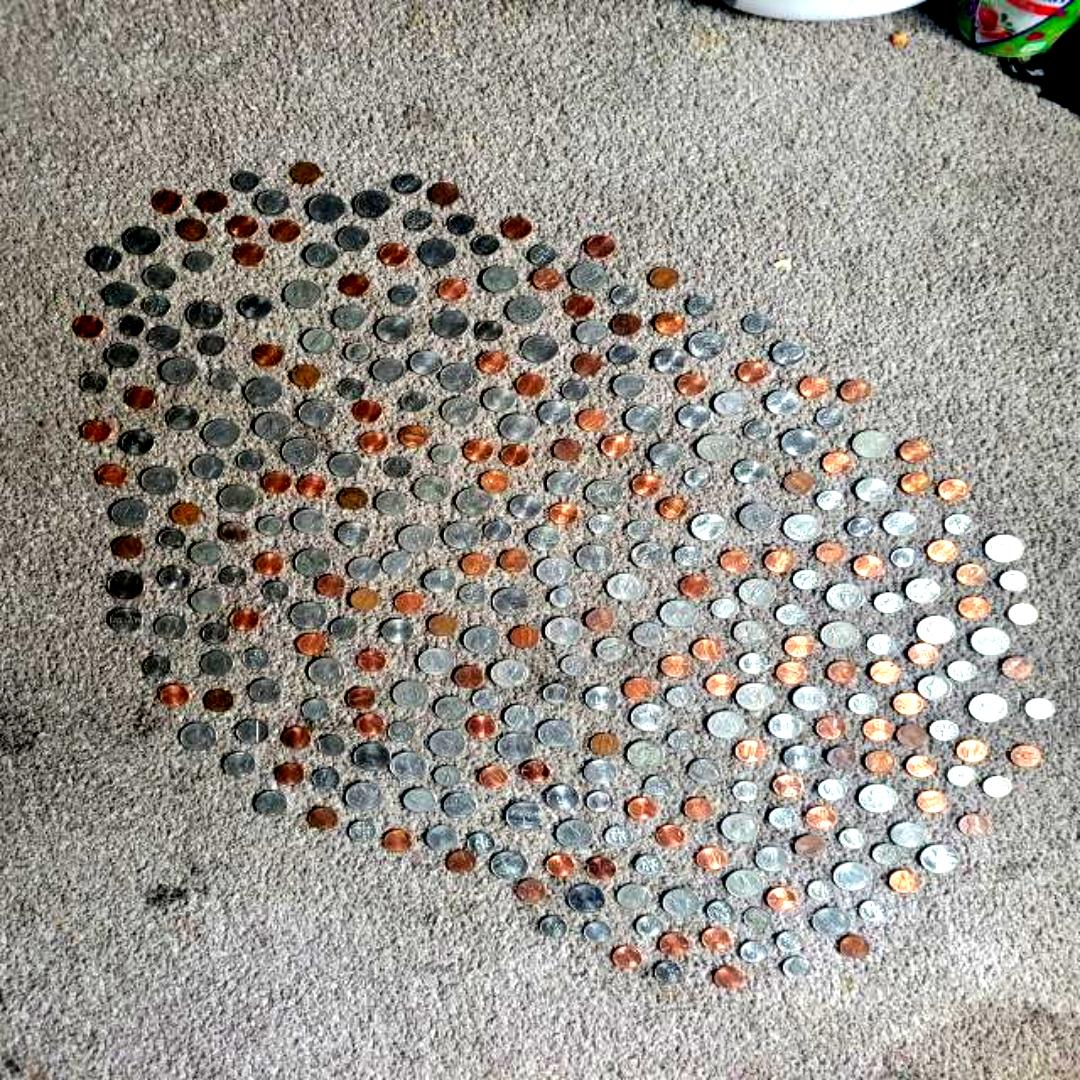Dime: (847, 694, 877, 716), (345, 342, 373, 364), (476, 320, 504, 342), (686, 296, 714, 318), (817, 490, 845, 512), (847, 516, 875, 538), (998, 570, 1026, 592), (588, 514, 616, 536), (237, 450, 265, 472), (159, 528, 187, 550), (867, 634, 895, 656), (782, 956, 810, 978), (467, 832, 495, 854), (818, 780, 848, 800), (929, 720, 959, 740), (948, 661, 978, 681), (872, 844, 902, 864), (858, 900, 888, 920), (210, 370, 238, 391), (448, 215, 476, 236), (745, 419, 773, 440), (330, 618, 358, 639), (434, 764, 462, 785), (561, 654, 589, 675), (947, 764, 975, 785), (1026, 698, 1054, 719), (348, 821, 376, 842), (562, 380, 588, 402), (610, 344, 636, 366), (384, 456, 410, 478), (199, 335, 226, 356), (80, 373, 108, 393), (118, 316, 146, 336), (232, 171, 260, 191), (394, 174, 422, 194), (404, 210, 432, 230), (473, 236, 501, 256), (390, 285, 418, 305), (338, 379, 366, 399), (400, 392, 428, 412), (529, 246, 557, 266), (610, 286, 638, 306), (815, 408, 843, 428), (684, 468, 712, 488), (890, 548, 918, 568), (944, 514, 972, 534), (793, 570, 821, 590), (674, 546, 702, 566), (626, 521, 654, 541), (550, 587, 578, 607), (458, 584, 486, 604), (484, 521, 512, 541), (220, 566, 248, 586), (258, 516, 286, 536), (144, 657, 172, 677), (202, 624, 230, 644), (302, 700, 330, 720), (318, 736, 346, 756), (388, 722, 416, 742), (473, 689, 501, 709), (543, 684, 571, 704), (586, 792, 614, 812), (645, 776, 673, 796), (669, 730, 697, 750), (667, 687, 695, 707), (739, 653, 767, 673), (711, 598, 739, 618), (776, 605, 804, 625), (874, 592, 902, 612), (1009, 604, 1037, 624), (838, 828, 866, 848), (808, 880, 836, 900), (777, 932, 805, 952), (739, 942, 767, 962), (744, 908, 772, 928), (707, 900, 735, 920), (654, 962, 682, 982), (637, 916, 665, 936), (605, 826, 633, 846), (583, 922, 611, 942), (539, 916, 567, 936), (144, 295, 170, 316), (186, 252, 213, 272), (243, 649, 270, 669), (313, 769, 340, 789), (744, 314, 770, 334), (432, 445, 458, 465), (264, 581, 290, 601), (734, 781, 760, 801), (984, 776, 1010, 796), (770, 808, 796, 828), (636, 855, 662, 875)
Nickel: (442, 792, 478, 818), (248, 678, 284, 704), (402, 786, 436, 813), (103, 282, 138, 308), (904, 579, 940, 604), (110, 608, 144, 634), (434, 696, 468, 722), (120, 431, 155, 456), (882, 512, 918, 536), (890, 822, 926, 846), (546, 470, 579, 496), (793, 686, 826, 712), (689, 758, 722, 784), (546, 784, 579, 810), (408, 351, 442, 376), (159, 566, 194, 590), (917, 676, 952, 700), (240, 294, 272, 320), (678, 404, 710, 430), (654, 348, 686, 374), (539, 400, 571, 426), (257, 190, 289, 216), (338, 226, 370, 252), (294, 508, 326, 534), (382, 618, 414, 644), (424, 568, 456, 594), (734, 620, 766, 646), (586, 686, 618, 712), (756, 846, 788, 872), (633, 622, 666, 647), (255, 790, 288, 815), (302, 330, 336, 354), (148, 326, 182, 350), (88, 248, 122, 272), (190, 590, 224, 614), (190, 542, 224, 566), (504, 704, 538, 728), (236, 720, 270, 744), (200, 652, 234, 676), (714, 392, 747, 416), (785, 746, 818, 770), (769, 714, 802, 738), (584, 760, 617, 784), (223, 752, 256, 776), (617, 884, 650, 908), (154, 616, 188, 639), (306, 244, 338, 268), (334, 306, 366, 330), (576, 320, 608, 344), (772, 342, 804, 366), (767, 390, 799, 414), (734, 460, 766, 484), (856, 478, 888, 502), (613, 374, 645, 398), (484, 388, 516, 412), (144, 266, 176, 290), (167, 406, 199, 430), (338, 522, 370, 546), (348, 558, 380, 582), (382, 552, 414, 576), (596, 638, 628, 662), (528, 526, 560, 550), (427, 826, 459, 850), (106, 344, 139, 367), (328, 454, 362, 476), (650, 443, 682, 466), (372, 359, 404, 382), (510, 496, 542, 518), (376, 492, 408, 514), (192, 456, 224, 478)
Penny: (383, 828, 413, 854), (889, 868, 919, 894), (227, 214, 259, 238), (111, 536, 143, 560), (501, 217, 533, 240), (271, 219, 303, 242), (958, 595, 990, 618), (956, 740, 988, 763), (431, 182, 461, 206), (380, 242, 410, 266), (235, 242, 265, 266), (153, 190, 183, 214), (315, 574, 345, 598), (908, 642, 938, 666), (281, 726, 311, 750), (517, 878, 547, 902), (612, 946, 642, 970), (841, 934, 871, 958), (290, 162, 320, 186), (784, 472, 816, 494), (1002, 656, 1034, 678), (659, 656, 691, 678), (218, 522, 250, 544), (601, 435, 631, 458), (572, 352, 602, 375), (721, 550, 751, 573), (447, 850, 477, 873), (701, 928, 731, 951), (713, 966, 743, 989), (766, 887, 796, 910), (578, 408, 606, 432), (650, 266, 678, 290), (199, 190, 227, 214), (394, 590, 422, 614), (586, 608, 614, 632), (345, 689, 377, 710), (308, 806, 336, 830), (660, 932, 688, 956), (862, 719, 894, 740), (359, 432, 389, 454), (564, 294, 594, 316), (586, 236, 616, 258), (477, 352, 507, 374), (290, 364, 320, 386), (253, 344, 283, 366), (839, 380, 869, 402), (899, 440, 929, 462), (427, 614, 457, 636), (927, 540, 957, 562), (624, 678, 654, 700), (354, 714, 384, 736), (521, 760, 551, 782), (544, 854, 574, 876), (657, 824, 687, 846), (81, 418, 109, 441), (799, 377, 827, 400), (297, 475, 325, 498), (350, 587, 378, 610), (735, 362, 767, 382), (775, 662, 807, 682), (705, 674, 737, 694), (1009, 746, 1041, 766), (340, 273, 370, 294), (631, 473, 661, 494), (549, 503, 579, 524), (339, 488, 369, 509), (453, 667, 483, 688), (826, 661, 856, 682), (159, 684, 189, 705), (917, 791, 947, 812), (863, 750, 893, 771), (896, 725, 926, 746), (905, 755, 935, 776), (276, 762, 302, 786), (75, 316, 103, 338), (126, 386, 154, 408), (97, 464, 125, 486), (262, 472, 290, 494), (501, 444, 529, 466), (677, 374, 705, 396), (611, 314, 639, 336), (533, 268, 561, 290), (516, 374, 544, 396), (901, 472, 929, 494), (821, 452, 849, 474), (680, 576, 708, 598), (479, 766, 507, 788), (177, 220, 207, 240), (295, 634, 325, 654), (356, 650, 386, 670), (460, 554, 490, 574), (499, 550, 529, 570), (509, 628, 539, 648), (764, 552, 794, 572), (852, 556, 882, 576), (870, 662, 900, 682), (784, 636, 814, 656), (691, 640, 721, 660), (230, 610, 260, 630), (466, 716, 496, 736), (627, 798, 657, 818), (587, 858, 617, 878), (816, 718, 846, 738), (772, 776, 802, 796), (795, 836, 825, 856), (959, 814, 989, 834), (826, 748, 856, 768), (894, 694, 924, 714), (398, 426, 426, 447), (463, 440, 491, 461), (480, 472, 508, 493), (554, 440, 582, 461), (655, 313, 683, 334), (939, 480, 967, 501), (957, 565, 985, 586), (205, 690, 233, 711), (171, 503, 199, 524), (591, 734, 619, 755), (684, 799, 712, 820), (735, 741, 763, 762), (353, 402, 381, 422), (438, 279, 466, 299), (658, 498, 686, 518), (816, 542, 844, 562), (255, 554, 283, 574), (696, 848, 724, 868), (806, 808, 834, 828)
Quarter: (567, 883, 605, 913), (202, 420, 242, 448), (219, 486, 259, 514), (106, 572, 146, 600), (825, 583, 865, 611), (968, 694, 1008, 722), (187, 302, 225, 330), (376, 317, 414, 345), (521, 335, 559, 363), (984, 535, 1022, 563), (740, 503, 778, 531), (690, 514, 728, 542), (575, 544, 613, 572), (584, 480, 622, 508), (440, 398, 478, 426), (282, 438, 320, 466), (112, 499, 150, 527), (140, 467, 178, 495), (308, 658, 346, 686), (463, 626, 501, 654), (493, 588, 531, 616), (606, 573, 644, 601), (739, 578, 777, 606), (917, 616, 955, 644), (972, 627, 1010, 655), (920, 845, 958, 873), (859, 784, 897, 812), (812, 907, 850, 935), (725, 870, 763, 898), (662, 888, 700, 916), (556, 820, 594, 848), (345, 782, 383, 810), (388, 752, 428, 778), (125, 227, 162, 255), (308, 194, 345, 222), (432, 310, 469, 338), (439, 364, 476, 392), (399, 525, 436, 553), (501, 414, 538, 442), (298, 399, 335, 427), (254, 412, 291, 440), (294, 549, 331, 577), (179, 723, 216, 751), (290, 602, 327, 630), (418, 648, 455, 676), (660, 600, 697, 628), (821, 620, 859, 647), (284, 280, 320, 308), (354, 190, 390, 218), (420, 239, 456, 267), (482, 265, 518, 293), (508, 296, 544, 324), (688, 331, 724, 359), (782, 428, 818, 456), (784, 513, 820, 541), (698, 434, 734, 462), (444, 522, 480, 550), (456, 487, 492, 515), (414, 475, 450, 503), (246, 378, 282, 406), (490, 660, 526, 688), (546, 617, 582, 645), (498, 733, 534, 761), (632, 703, 668, 731), (628, 740, 664, 768), (708, 710, 744, 738), (736, 682, 772, 710), (722, 813, 758, 841), (834, 863, 870, 891), (492, 852, 528, 880), (506, 802, 542, 830), (392, 681, 429, 708), (570, 264, 608, 290), (853, 432, 891, 458), (632, 542, 670, 568), (430, 728, 466, 755), (536, 558, 573, 584), (162, 357, 196, 385), (626, 406, 662, 432), (354, 744, 390, 770), (538, 720, 574, 746)
